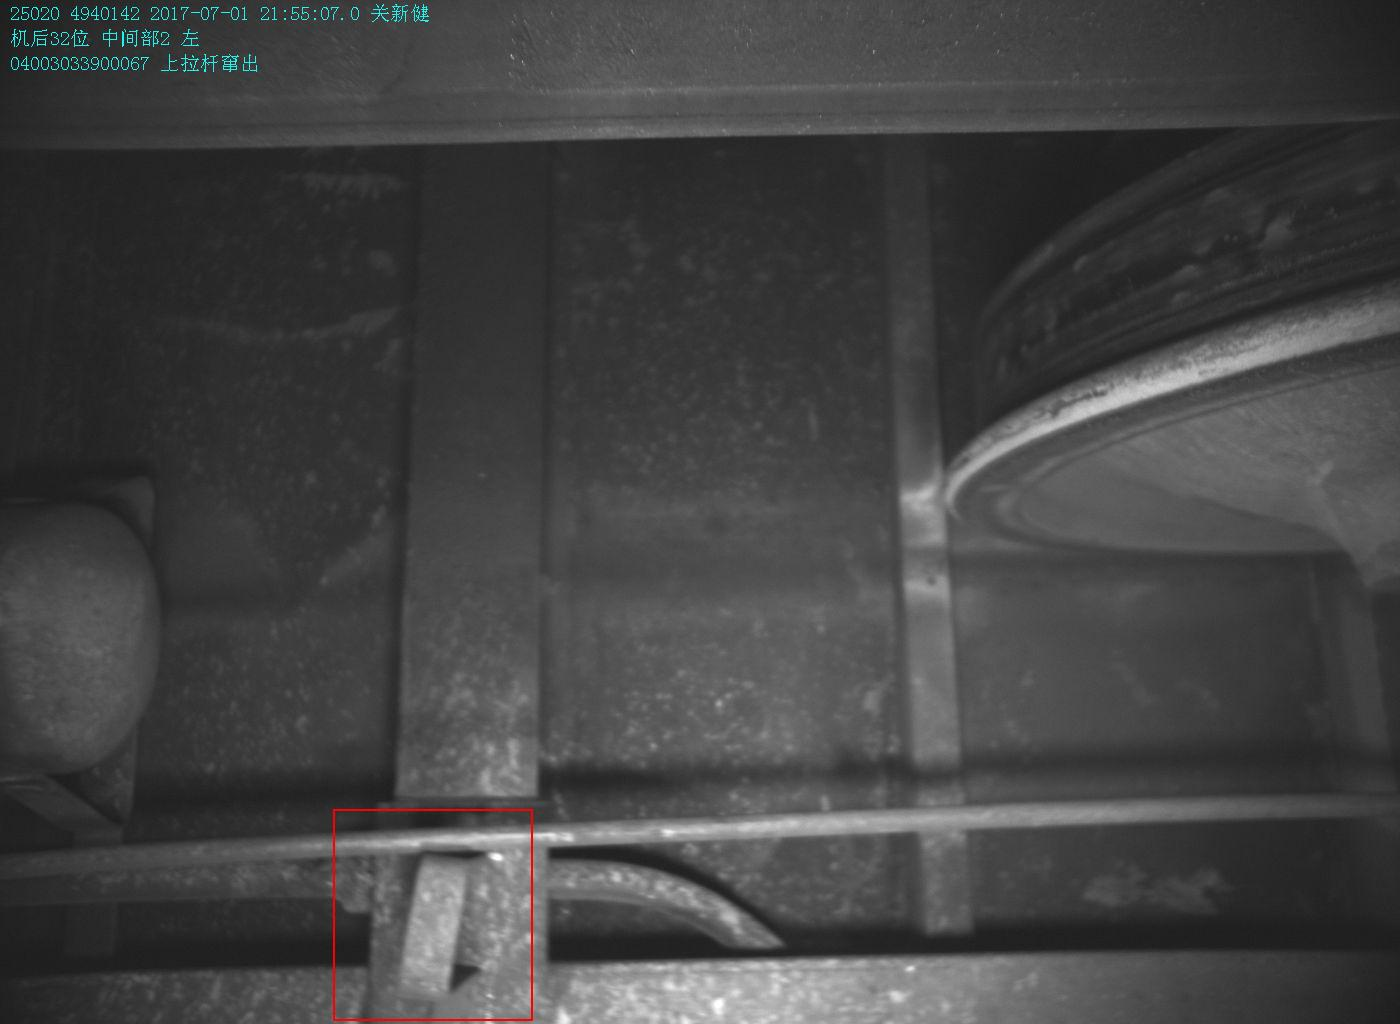upper lever: (397, 823, 491, 1003)
